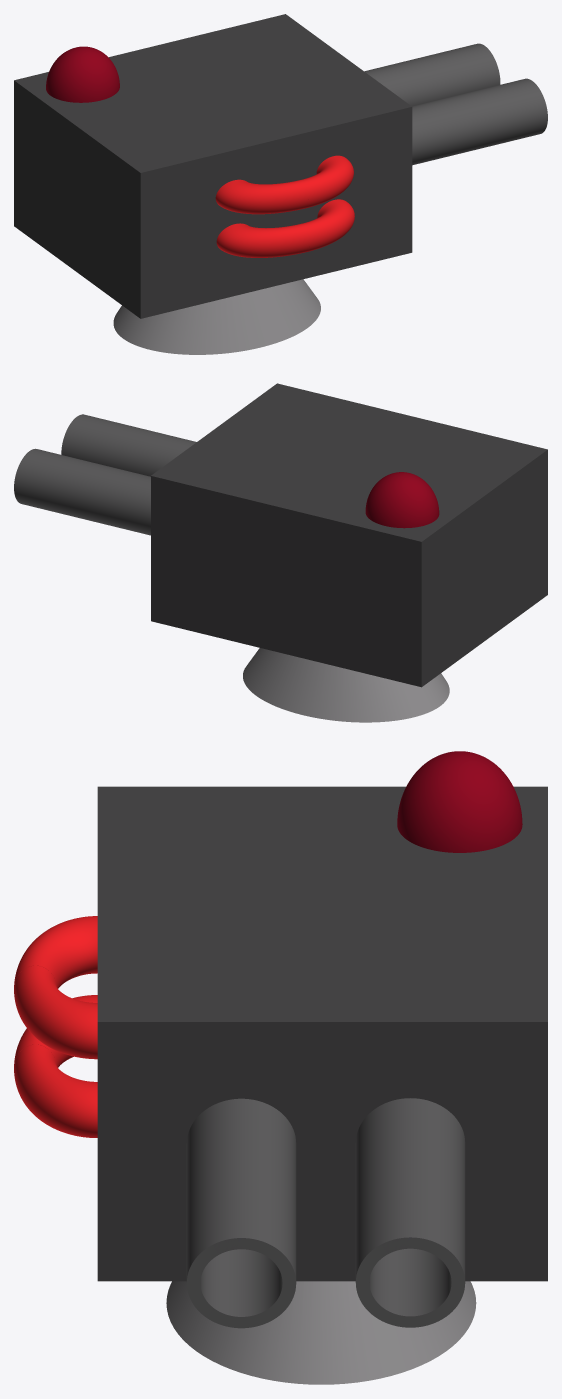
Rendered from turret.fbx.
3 views of the same model, one above another, from view 1: azimuth 30°, elevation 25°; view 2: azimuth 150°, elevation 25°; view 3: azimuth 270°, elevation 25° (orthographic). The views are drawn at different scales.
Visible parts, largest first — view 1: node_id243, node_id240, node_id253, node_id250, node_id246, node_id269, node_id278, node_id265, node_id274; view 2: node_id243, node_id240, node_id250, node_id253, node_id246; view 3: node_id243, node_id250, node_id253, node_id240, node_id246, node_id265, node_id274, node_id269.
Boxes of the visible parts, bbox=[...] form: node_id243: bbox=[14, 14, 412, 318]; node_id240: bbox=[113, 279, 320, 354]; node_id253: bbox=[412, 78, 547, 165]; node_id250: bbox=[364, 43, 500, 106]; node_id246: bbox=[46, 46, 119, 102]; node_id269: bbox=[215, 179, 309, 214]; node_id278: bbox=[216, 223, 309, 257]; node_id265: bbox=[301, 155, 353, 208]; node_id274: bbox=[303, 199, 354, 251]; node_id243: bbox=[151, 383, 547, 687]; node_id240: bbox=[243, 648, 449, 722]; node_id250: bbox=[14, 448, 150, 535]; node_id253: bbox=[61, 414, 196, 476]; node_id246: bbox=[365, 472, 439, 528]; node_id243: bbox=[97, 786, 547, 1281]; node_id250: bbox=[355, 1098, 465, 1327]; node_id253: bbox=[186, 1098, 296, 1328]; node_id240: bbox=[166, 1281, 476, 1384]; node_id246: bbox=[397, 751, 522, 852]; node_id265: bbox=[14, 965, 97, 1059]; node_id274: bbox=[14, 1044, 97, 1137]; node_id269: bbox=[14, 916, 97, 988].
Bounding box in the file's own units: 0.512 × 0.2952 × 0.3082.
11 materials, 11 textured.
